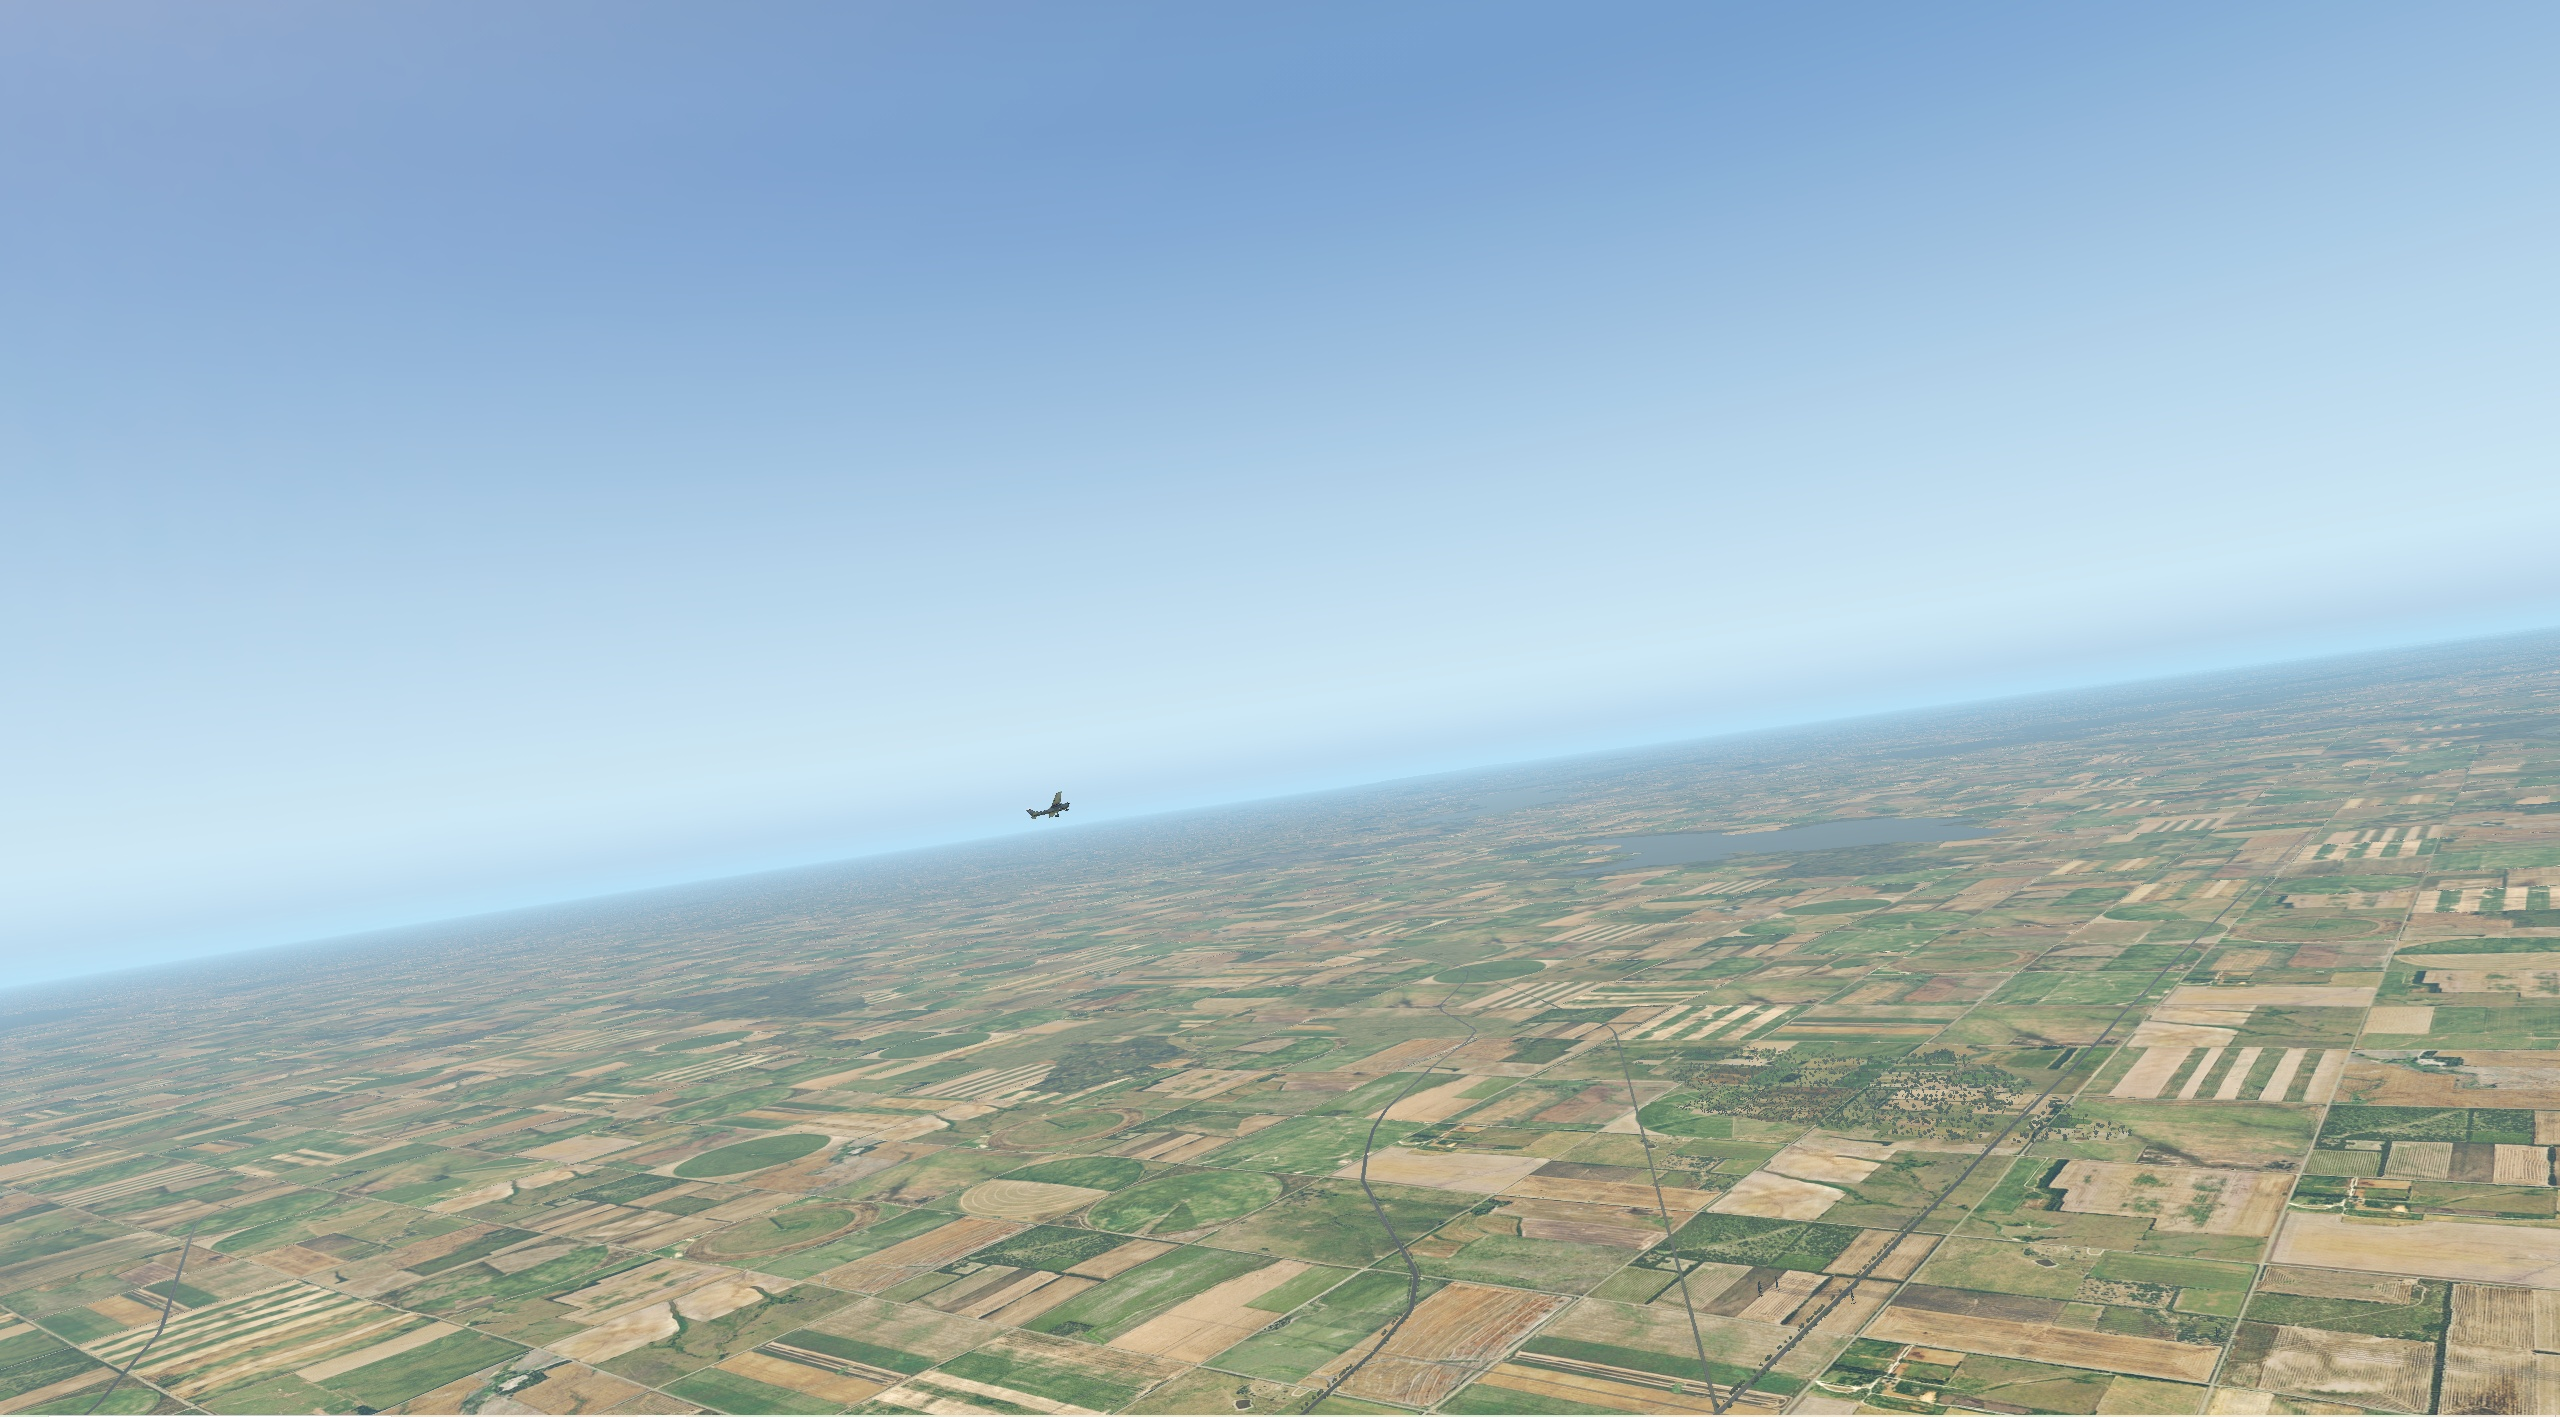aircraft: (1023, 794, 1092, 820)
